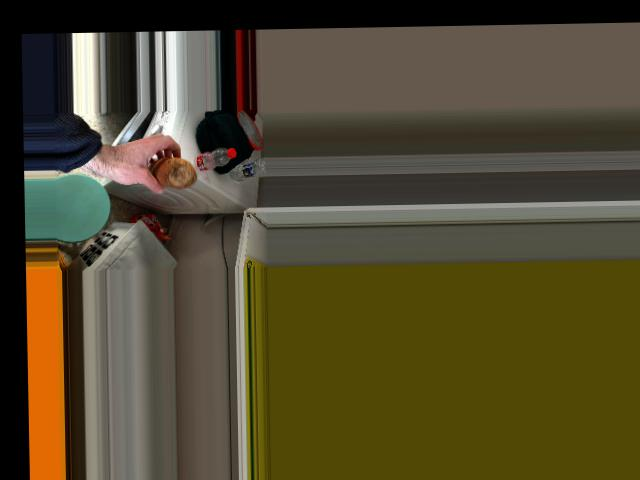sweet_potato: (145, 153, 199, 194)
